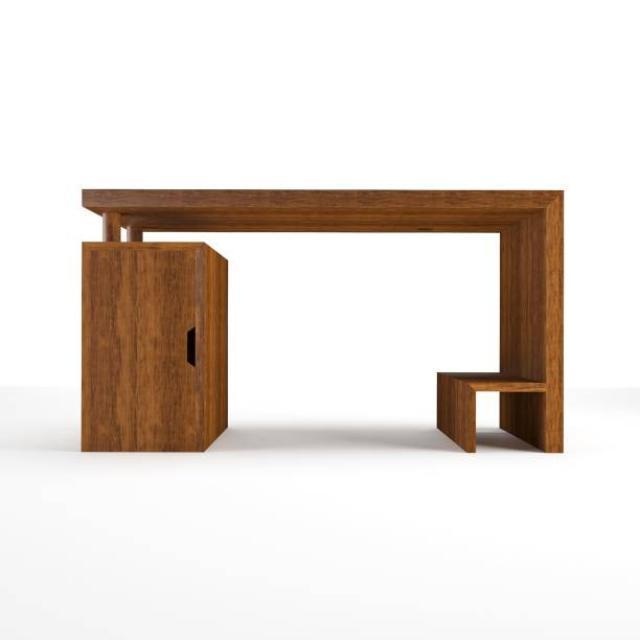table: (80, 187, 564, 454), (435, 370, 547, 453)
